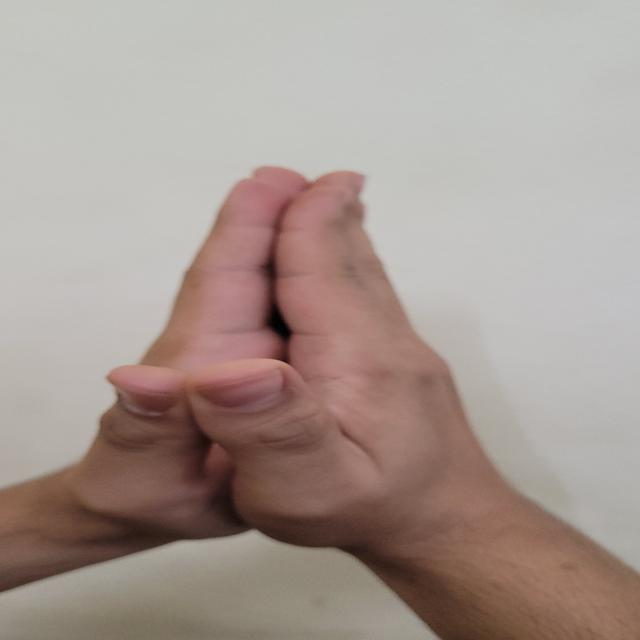Thank You: (41, 136, 544, 604)
